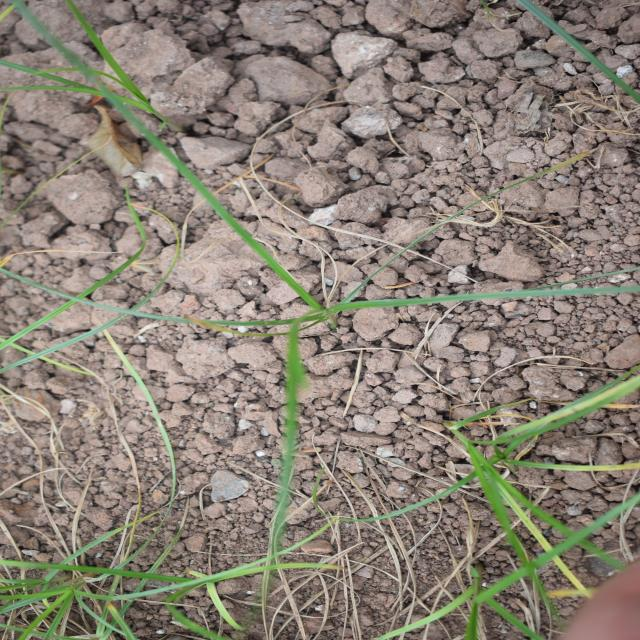sedge: (151, 46, 542, 608)
